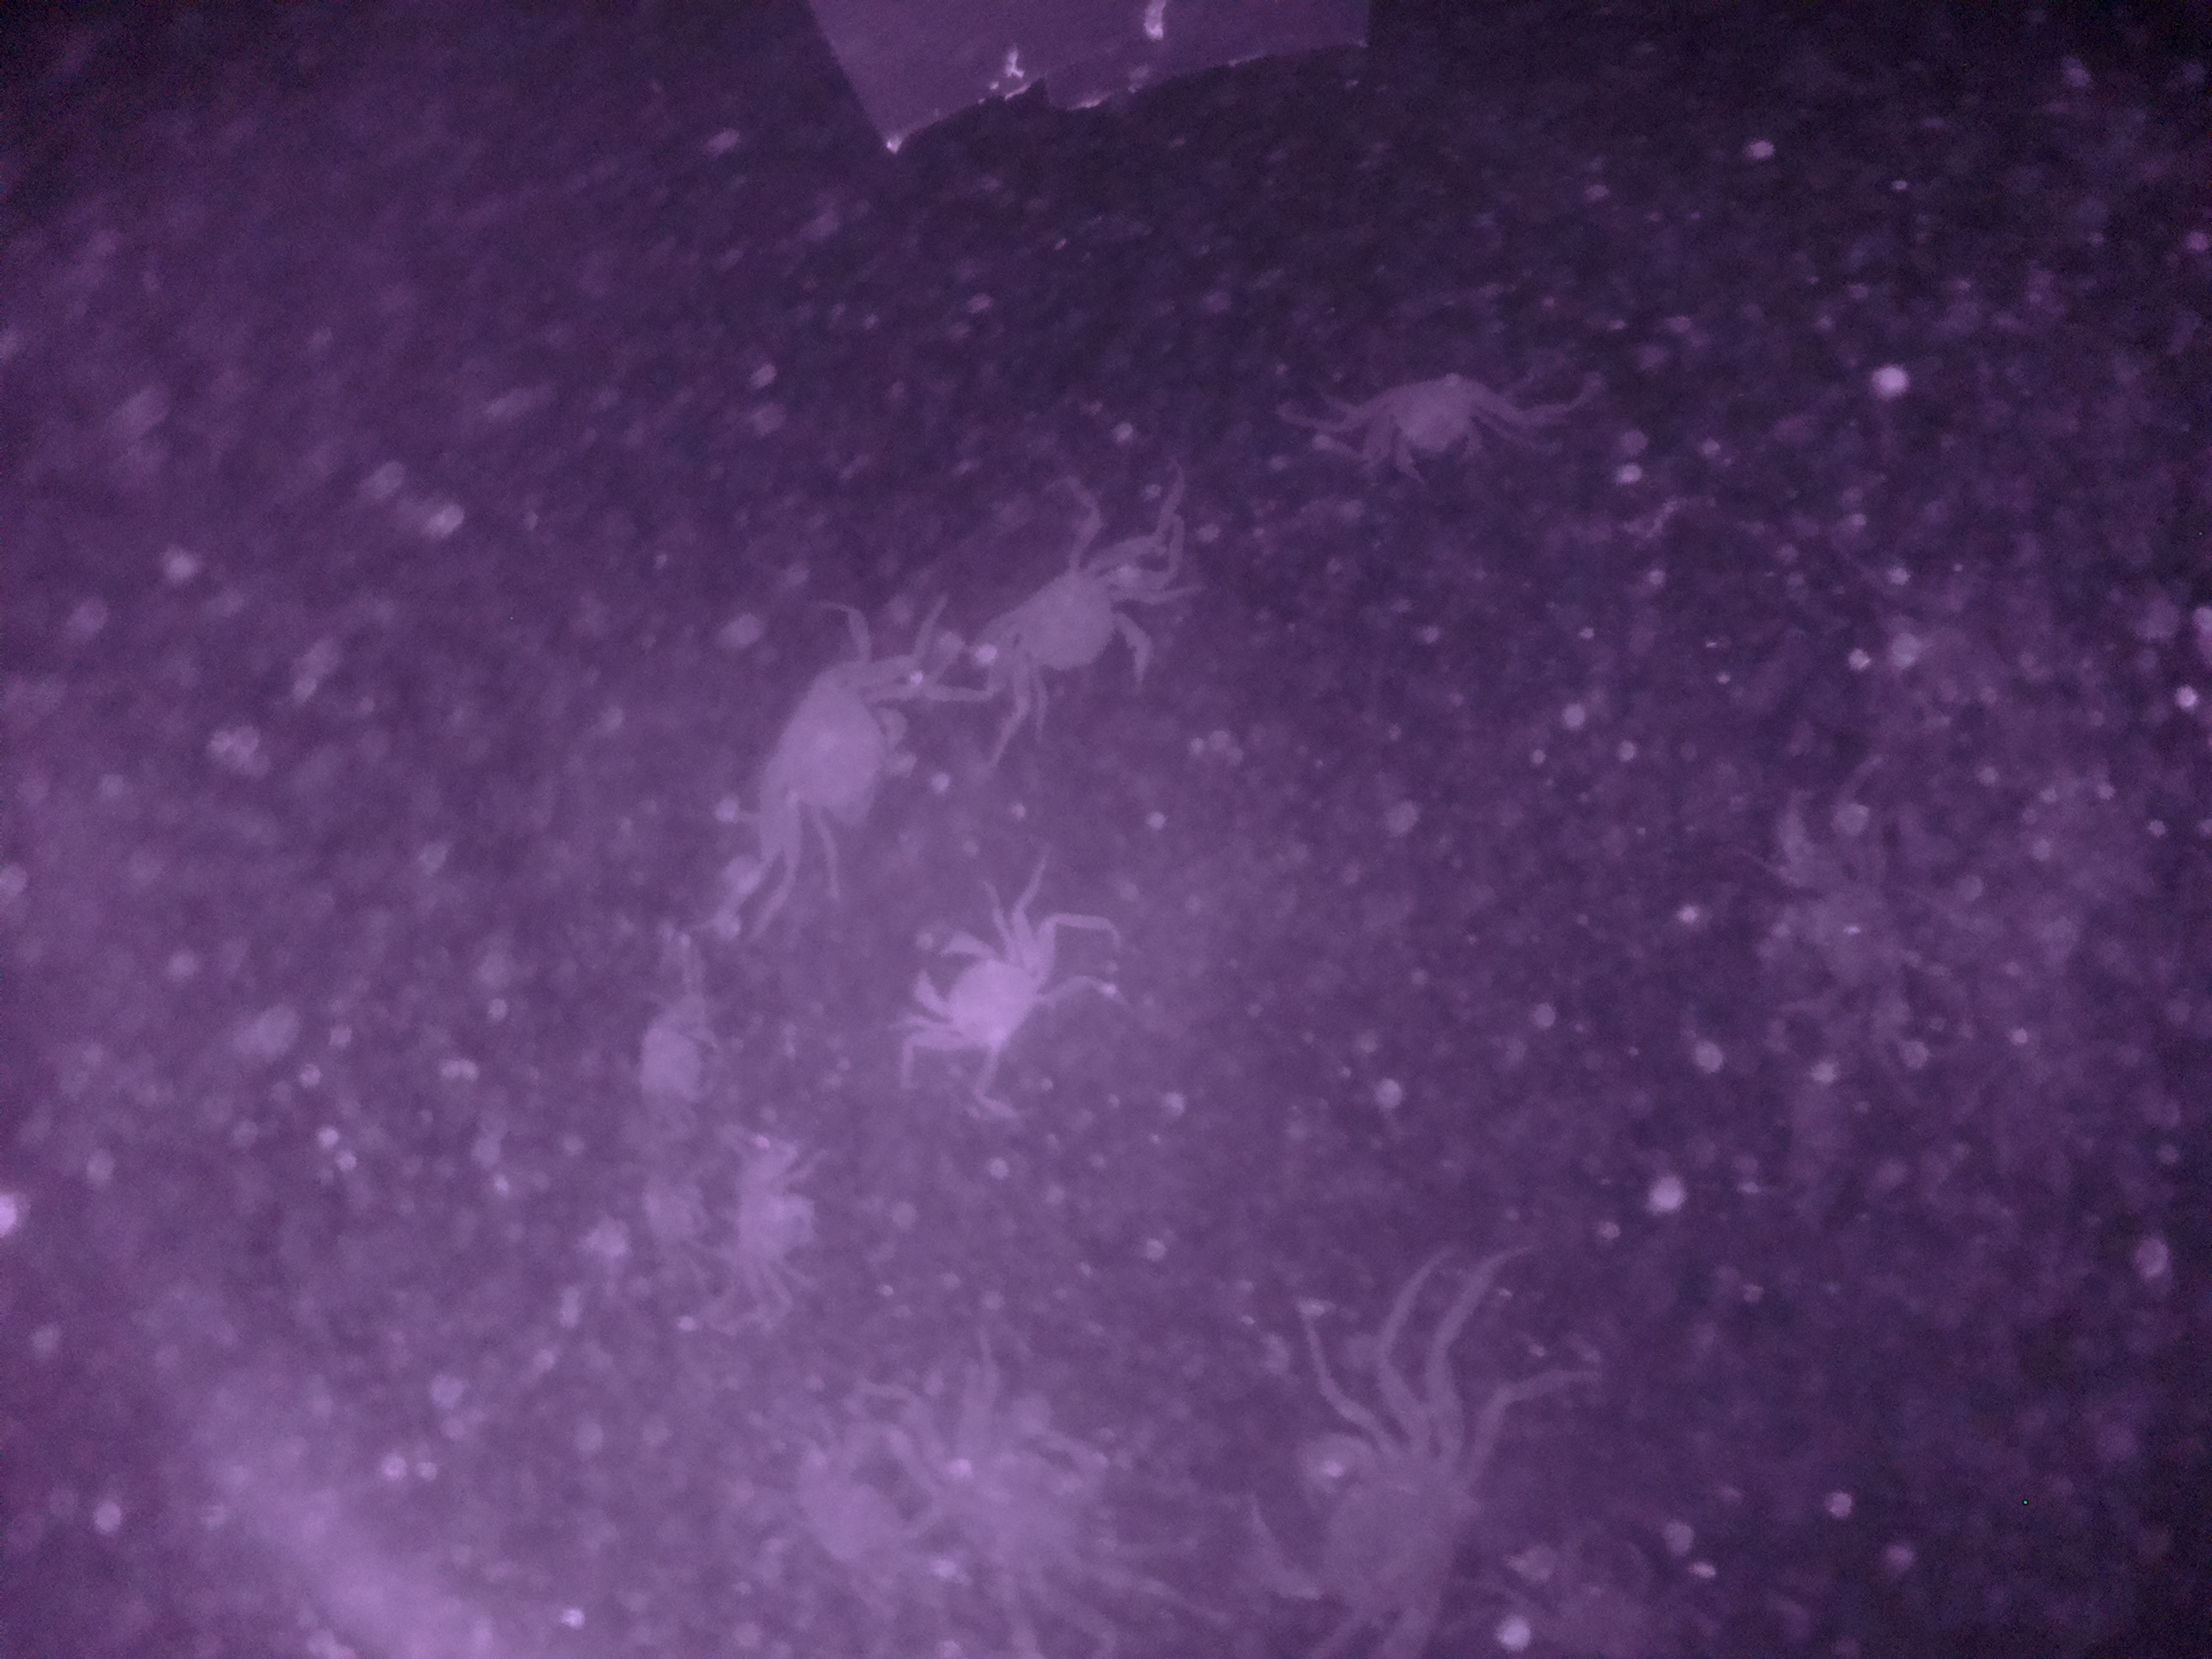Crab: (972, 528, 1172, 732), (752, 641, 913, 838), (894, 903, 1068, 1070)
